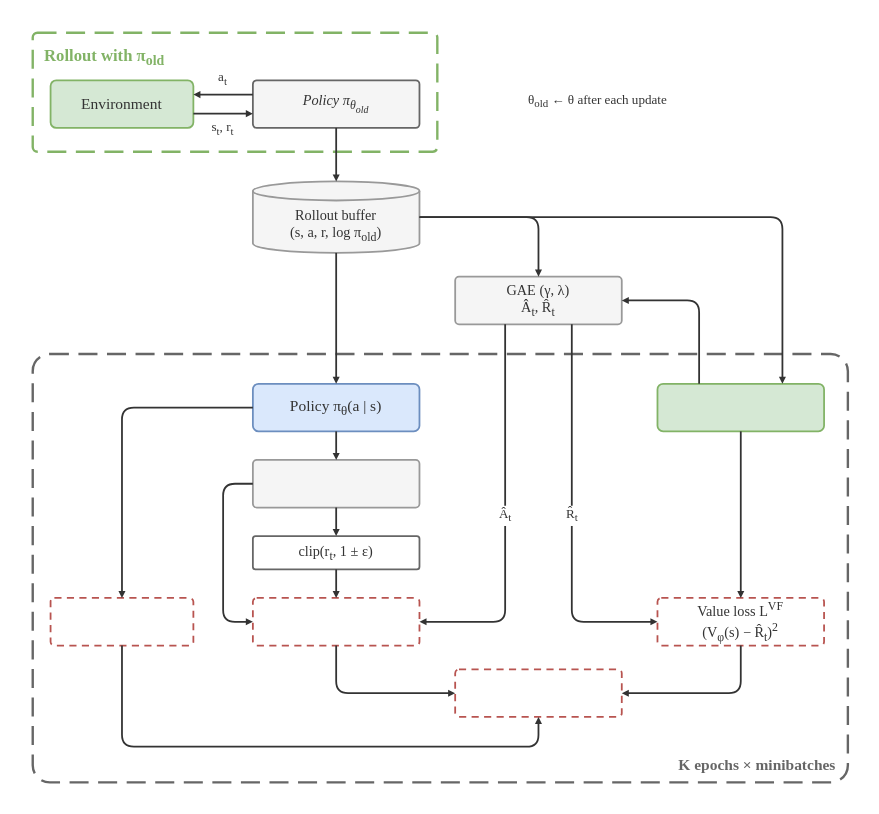
This 879x814 diagram has some shape labels left out. Here are the shapes that lost their labels. From the top down, the centre of each, then its label:
point (740, 407): Value net V φ (s)
point (335, 483): Ratio r t (θ) π θ / π θ old
point (121, 621): Entropy bonus S[π θ ](s)
point (335, 621): Surrogate L CLIP min(r t Â t , clip · Â t )
point (538, 692): Total loss −L CLIP + c 1 L VF − c 2 S
